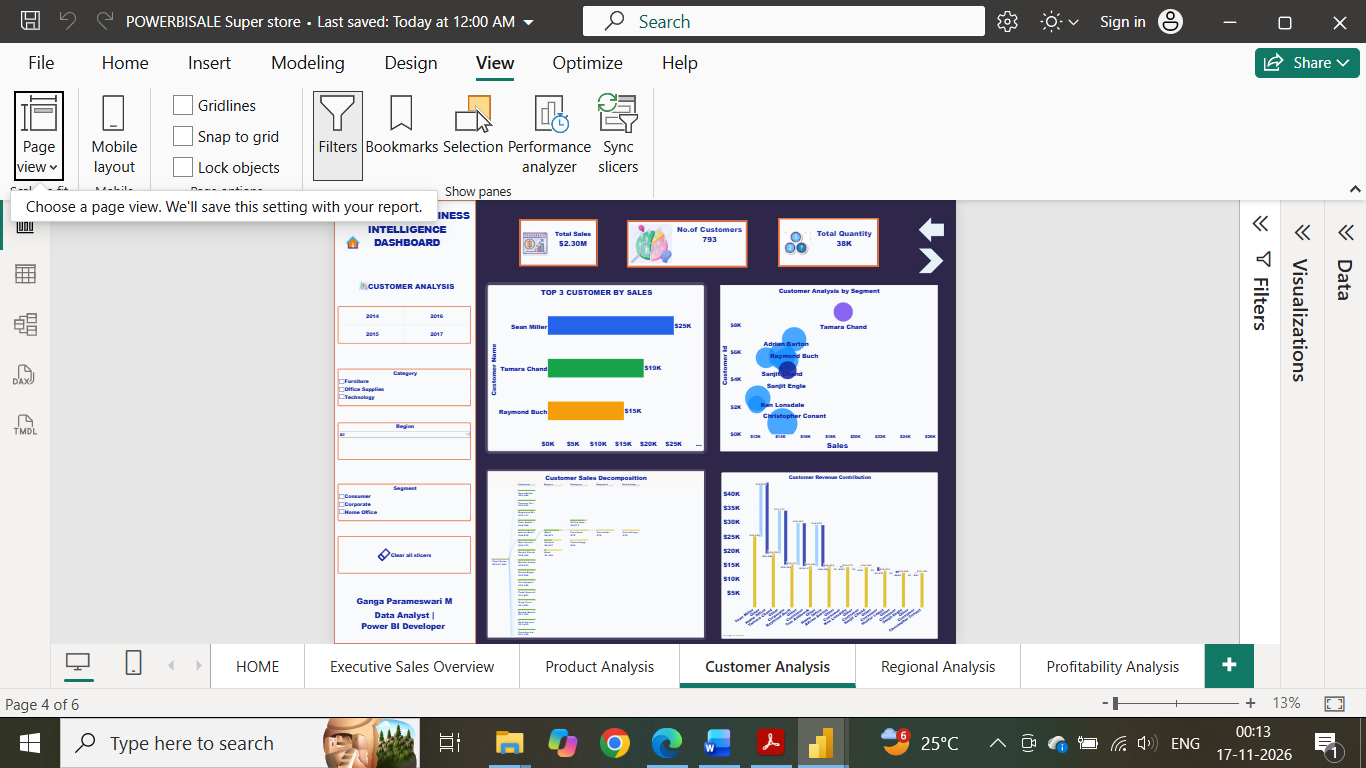

The dashboard page shown, as its layout file describes it:
{"tool":"powerbi","page":{"name":"Customer Analysis","canvas":[7000,5000],"ordinal":3},"visuals":[{"type":"shape","box":[0,0,1600,5000],"z":0},{"type":"pageNavigator","box":[1641.9,1350,200,50],"z":1000},{"type":"pageNavigator","box":[0,0,200,50],"z":2000},{"type":"textbox","box":[35.7,4252.9,1500,670],"z":3000},{"type":"textbox","box":[56.3,98.5,1530,620],"z":4000},{"type":"textbox","box":[2445,1305,490,95],"z":5000},{"type":"cardVisual","fields":{"Data":["Fact Sales.Total Sales"]},"box":[2094.3,224.8,860,510],"z":6000},{"type":"cardVisual","fields":{"Data":["Fact Sales.No.of Customers"]},"box":[3301.2,236.6,1337.1,508.8],"z":7000},{"type":"cardVisual","fields":{"Data":["Sample-Superstore.Total Quantity"]},"box":[5016.9,213,1112.2,532.5],"z":8000},{"type":"barChart","title":"TOP 3 CUSTOMER BY SALES","fields":{"Category":["Dim Customer.Customer Name"],"Y":["Fact Sales.Total Sales"]},"box":[1727,964.2,2435,1872],"z":9000},{"type":"slicer","title":"Category","fields":{"Values":["Dim Product.Category"]},"box":[40,1900,1500,420],"z":10000},{"type":"slicer","fields":{"Values":["Dim _Date.Year"]},"box":[40,1200,1500,420],"z":11000},{"type":"slicer","title":"Region","fields":{"Values":["Dim_Location.Region"]},"box":[40,2500,1500,420],"z":12000},{"type":"slicer","title":"Segment","fields":{"Values":["Dim Customer.Segment"]},"box":[40,3200,1500,420],"z":13000},{"type":"actionButton","box":[40,3790,1500,420],"z":14000},{"type":"waterfallChart","title":"Customer Revenue Contribution","fields":{"Breakdown":["Dim Customer.Segment"],"Category":["Dim Customer.Customer Name"],"Y":["Fact Sales.Total Sales"]},"box":[4360.7,3065.4,2435,1872],"z":15000},{"type":"decompositionTreeVisual","title":"Customer Sales Decomposition","fields":{"Analyze":["Fact Sales.Total Sales"],"ExplainBy":["Dim Customer.Customer Name","Dim_Location.Region","Dim Product.Category","Dim Customer.Segment","Dim Product.Sub-Category"]},"box":[1730,3050,2435,1872],"z":16000},{"type":"scatterChart","title":"Customer Analysis by Segment","fields":{"Category":["Dim Customer.Customer Name"],"Series":["Dim Customer.Segment"],"Size":["Sample-Superstore.Total Quantity"],"X":["Fact Sales.Total Sales"],"Y":["Sample-Superstore.Total Profit"]},"box":[4349.8,957.2,2449.4,1872.3],"z":17000},{"type":"actionButton","box":[56.3,760.2,1500,420],"z":18000},{"type":"shape","box":[6572.9,178.3,305.1,305.1],"z":19000},{"type":"shape","box":[6572.9,530.3,300,300],"z":20000},{"type":"image","box":[94.7,378.6,224.8,201.1],"z":21000}]}

Visuals, with their boxes on the page's 7000x5000 design canvas (x1, y1, x2, y2). These are canvas units, not pixel positions in the 1366x768 screenshot, which may show the page scaled, cropped or inside an application window:
shape: (0, 0, 1600, 5000)
pageNavigator: (1642, 1350, 1842, 1400)
pageNavigator: (0, 0, 200, 50)
textbox: (36, 4253, 1536, 4923)
textbox: (56, 98, 1586, 718)
textbox: (2445, 1305, 2935, 1400)
cardVisual - Fact Sales.Total Sales: (2094, 225, 2954, 735)
cardVisual - Fact Sales.No.of Customers: (3301, 237, 4638, 745)
cardVisual - Sample-Superstore.Total Quantity: (5017, 213, 6129, 746)
"TOP 3 CUSTOMER BY SALES" barChart: (1727, 964, 4162, 2836)
"Category" slicer: (40, 1900, 1540, 2320)
slicer - Dim _Date.Year: (40, 1200, 1540, 1620)
"Region" slicer: (40, 2500, 1540, 2920)
"Segment" slicer: (40, 3200, 1540, 3620)
actionButton: (40, 3790, 1540, 4210)
"Customer Revenue Contribution" waterfallChart: (4361, 3065, 6796, 4937)
"Customer Sales Decomposition" decompositionTreeVisual: (1730, 3050, 4165, 4922)
"Customer Analysis by Segment" scatterChart: (4350, 957, 6799, 2830)
actionButton: (56, 760, 1556, 1180)
shape: (6573, 178, 6878, 483)
shape: (6573, 530, 6873, 830)
image: (95, 379, 320, 580)
